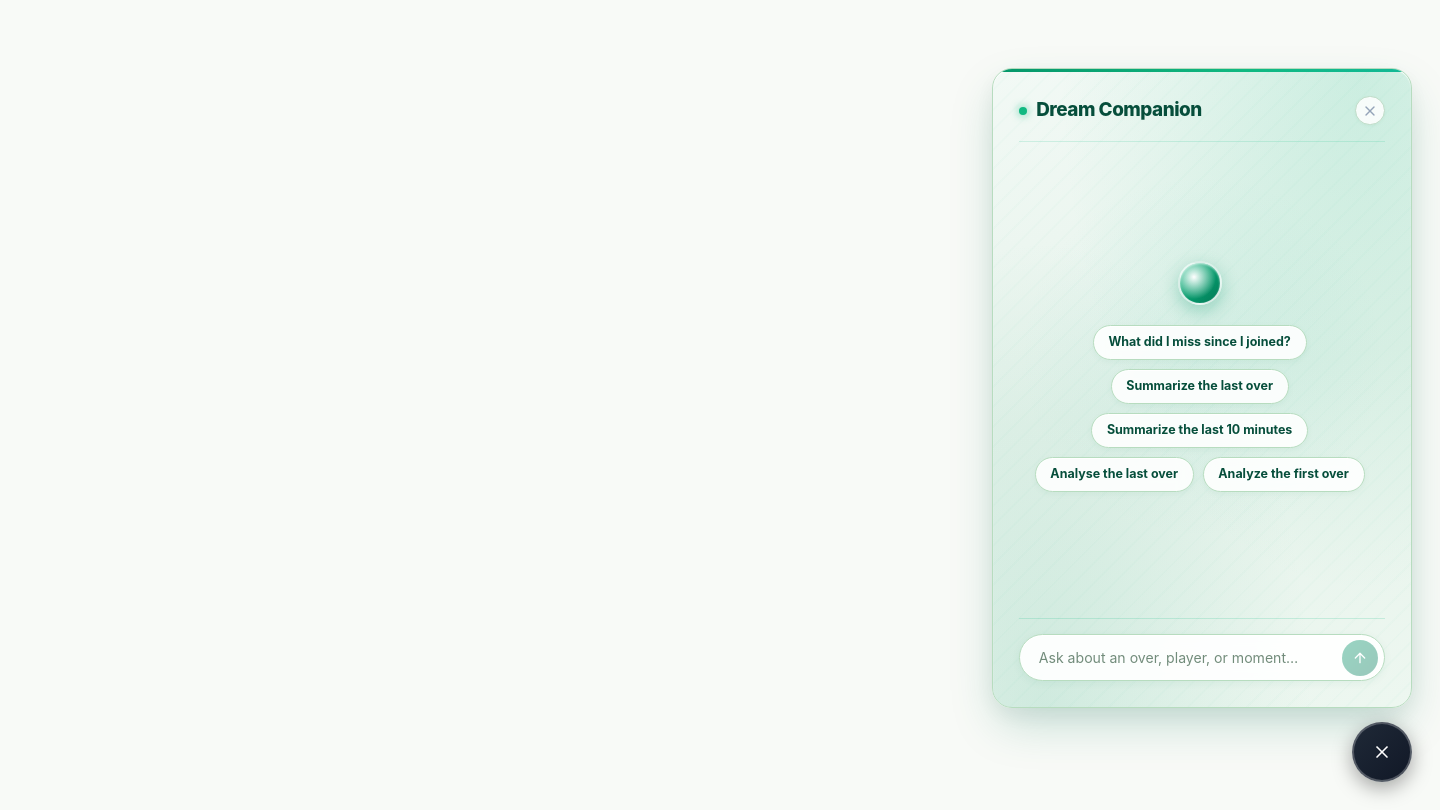
it: MatchCompanionChat › renders all 5 canonical prompts and sends the exact string on click
This screenshot has width=1440, height=810.
Expected: the button "Summarize the last over" is shown, top-left (1110, 369), bottom-right (1289, 404)
Expected: the button "Summarize the last 10 minutes" is shown, top-left (1091, 413), bottom-right (1308, 448)
// Click "What did I miss since I joined?"
Click the button "What did I miss since I joined?" at [1200, 343], box top-left (1093, 325), bottom-right (1306, 360)
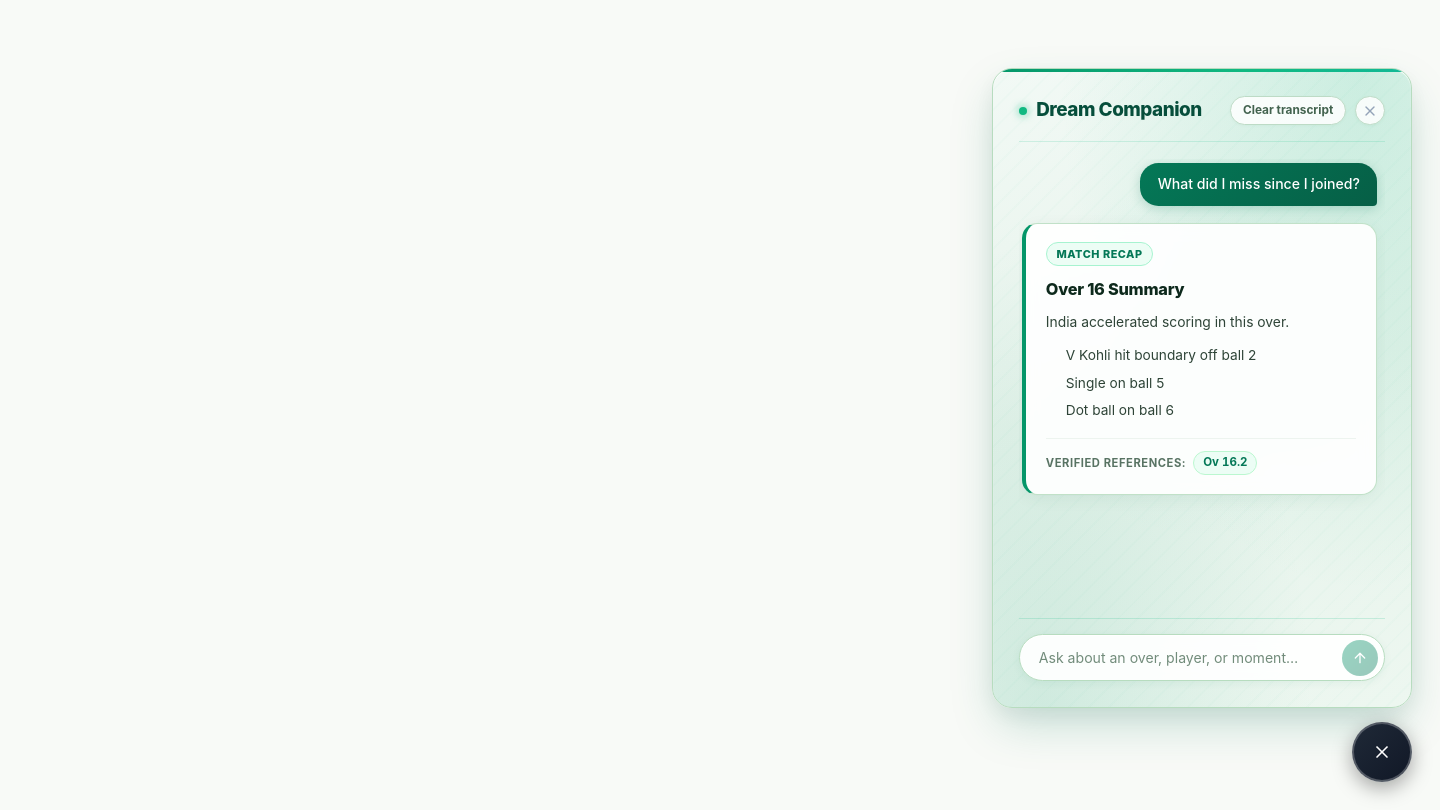
Now the heading "Over 16 Summary" is shown, box top-left (1046, 279), bottom-right (1184, 299)
Now the text "India accelerated scoring in this over." is shown, box top-left (1046, 314), bottom-right (1289, 330)
Now the list item "V Kohli hit boundary off ball 2" is shown, box top-left (1066, 347), bottom-right (1256, 363)
